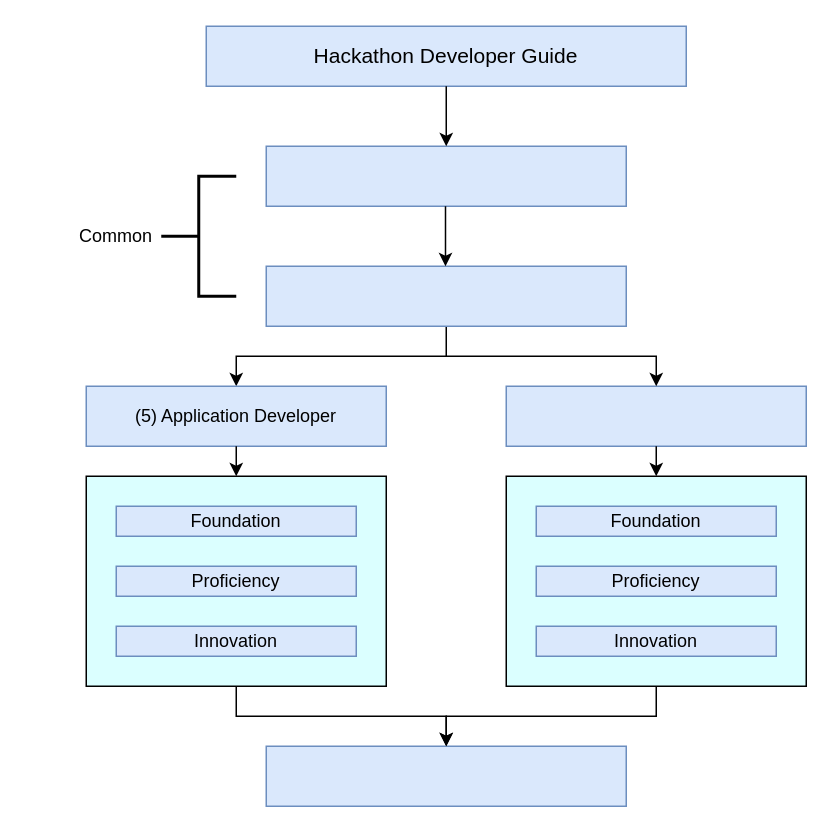
This 833x833 diagram has some shape labels left out. The shapes that lost their labels are listed below. From the top down, each one's centre as x and y in pixels, then its label:
the point at 445,175: (3) Prerequisites
the point at 445,295: (4) Common Developer Preparation
the point at 655,415: (6) Platform Developer
the point at 445,775: (7) Appendix (misc examples)
